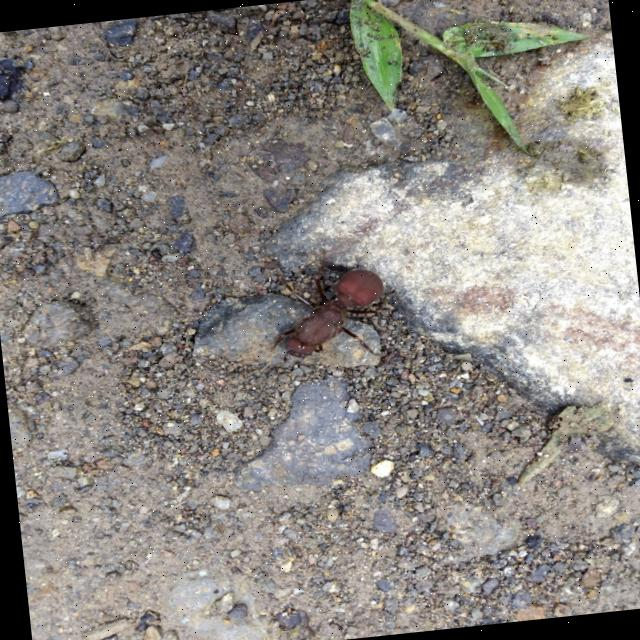Alive-Female-Dealate: (260, 242, 402, 368)
